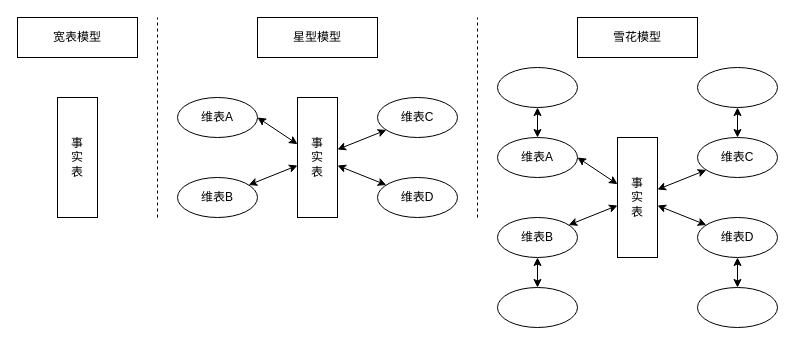
Image size: 795x345. Some labels were removed from this diagram. Here are the shapes that lost their labels. From the top down, the box of each, then its label:
(496, 66, 578, 108): 维表AA
(696, 66, 778, 108): 维表CC
(496, 286, 578, 328): 维表BB
(696, 286, 778, 328): 维表DD
